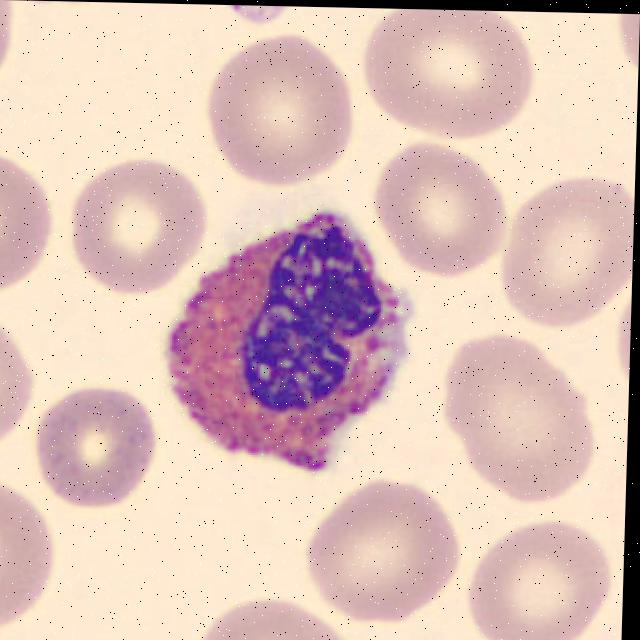eosinophil: (163, 206, 422, 474)
rbc: (430, 332, 601, 509), (208, 15, 356, 196), (356, 8, 540, 145), (301, 483, 473, 628), (493, 178, 635, 336), (67, 151, 207, 297), (33, 372, 174, 511), (370, 146, 513, 281), (462, 516, 614, 640), (0, 479, 64, 640), (0, 155, 56, 295), (197, 598, 365, 640), (0, 309, 38, 460), (613, 276, 632, 418), (611, 14, 639, 95), (12, 0, 104, 19), (0, 0, 17, 92)
